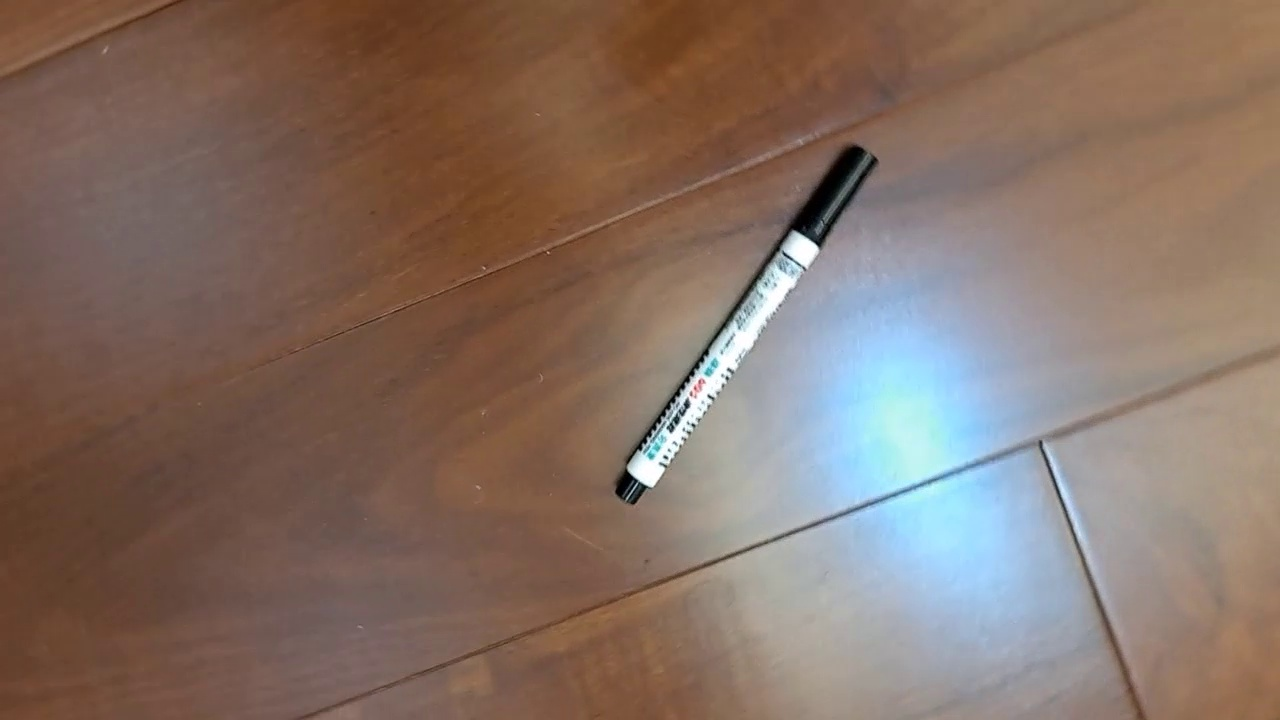pen: (612, 142, 881, 508)
